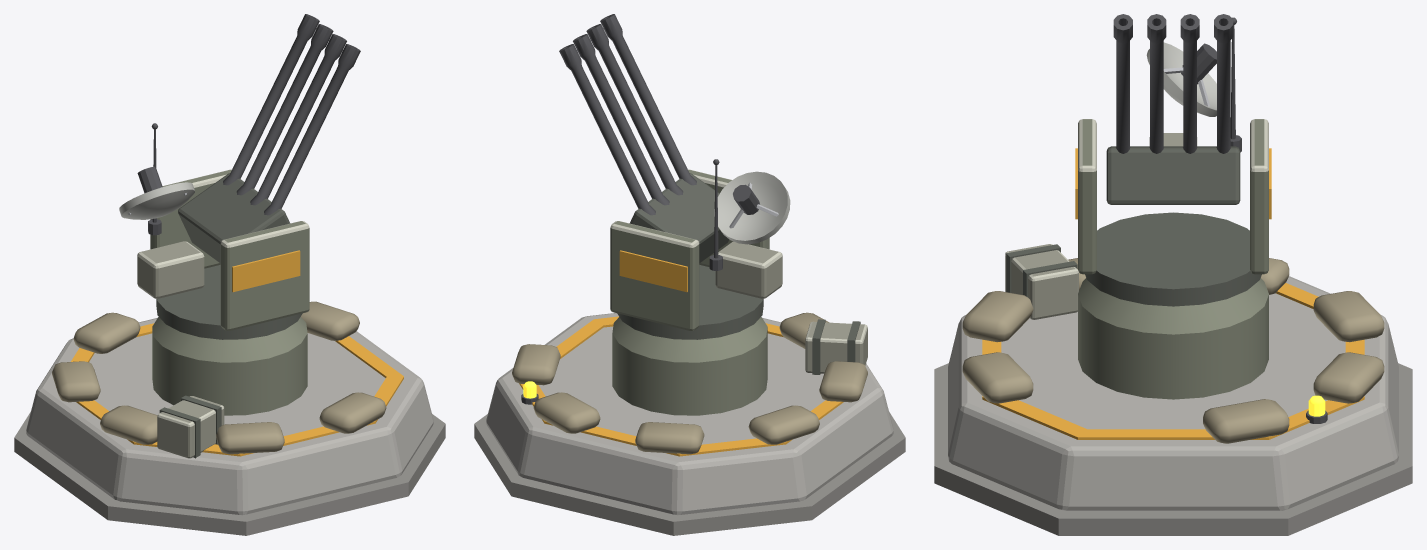
File: flak_cannon_orange.glb
3 views of the same model, side by side, from view 1: azimuth 30°, elevation 25°; view 2: azimuth 150°, elevation 25°; view 3: azimuth 270°, elevation 25° (orthographic). The views are drawn at different scales.
Parts seen in each view (by area): view 1: Body, Turret, Barrel; view 2: Body, Turret, Barrel; view 3: Body, Turret, Barrel.
Part boxes in pixels (left/top/right/bottom): Body: left=14, top=301, right=445, bottom=535; Turret: left=119, top=123, right=309, bottom=339; Barrel: left=223, top=14, right=360, bottom=215; Body: left=474, top=312, right=905, bottom=535; Turret: left=610, top=159, right=790, bottom=339; Barrel: left=559, top=14, right=696, bottom=215; Body: left=934, top=244, right=1412, bottom=535; Turret: left=1075, top=17, right=1271, bottom=306; Barrel: left=1113, top=14, right=1233, bottom=153.
Size of the model in its own units: 2 by 2.21 by 2.
Materials: 1 (1 with a texture image).
